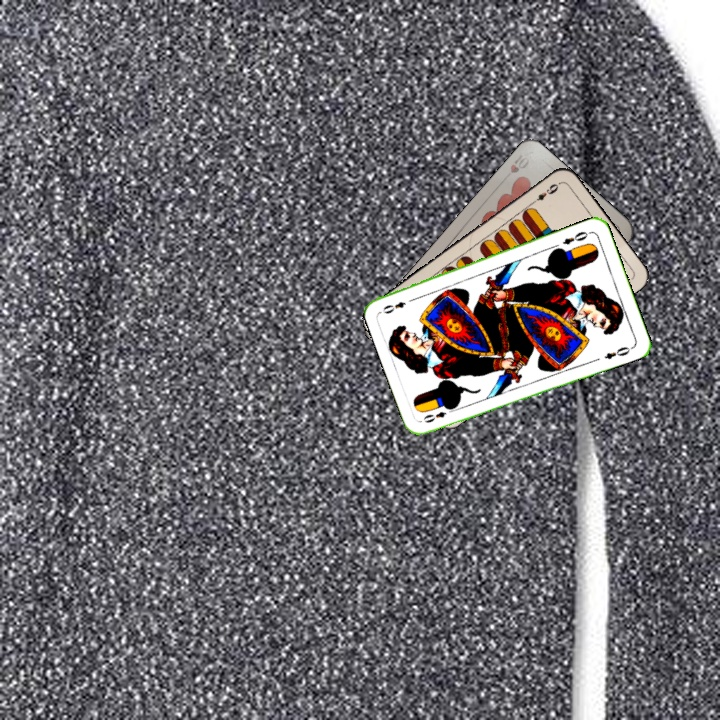E9: (527, 179, 562, 207)
EO: (419, 403, 458, 425), (558, 227, 593, 248)
H10: (499, 150, 532, 184)
